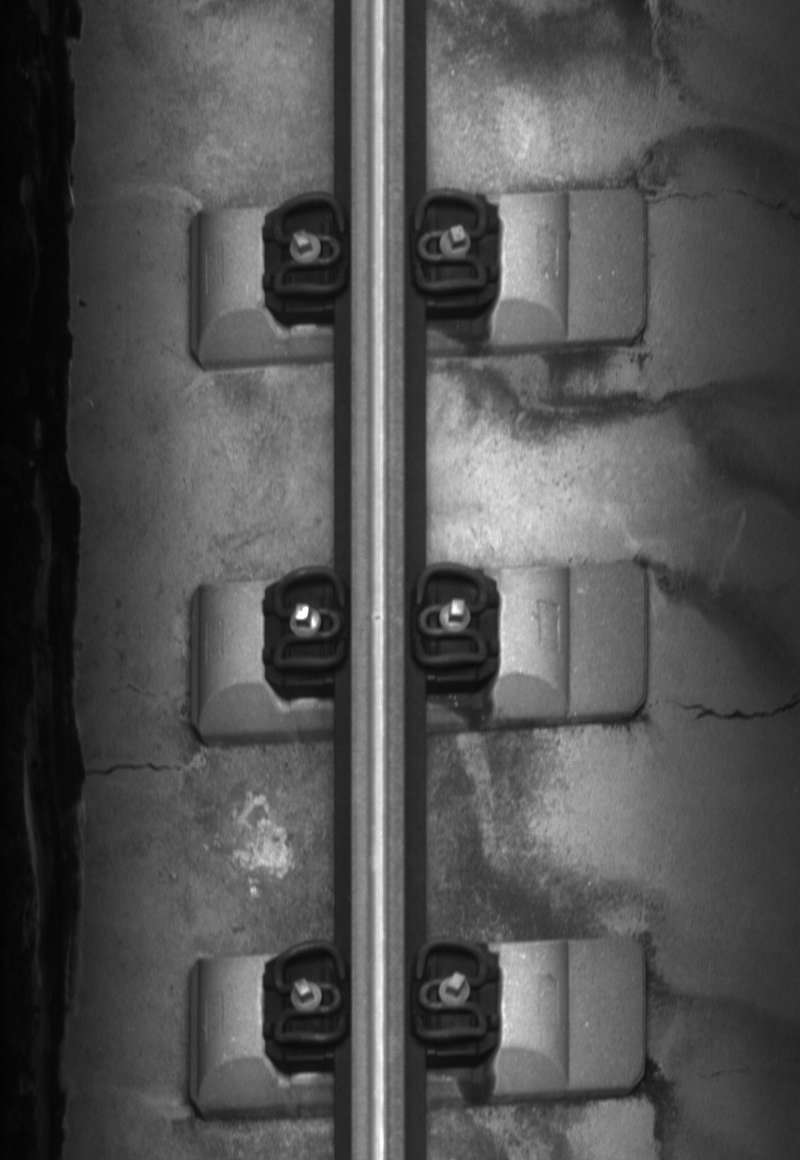l_faster: (267, 936, 351, 1051), (267, 188, 350, 302), (268, 561, 351, 670)
r_faster: (407, 184, 493, 302), (408, 560, 493, 673), (409, 936, 494, 1047)
